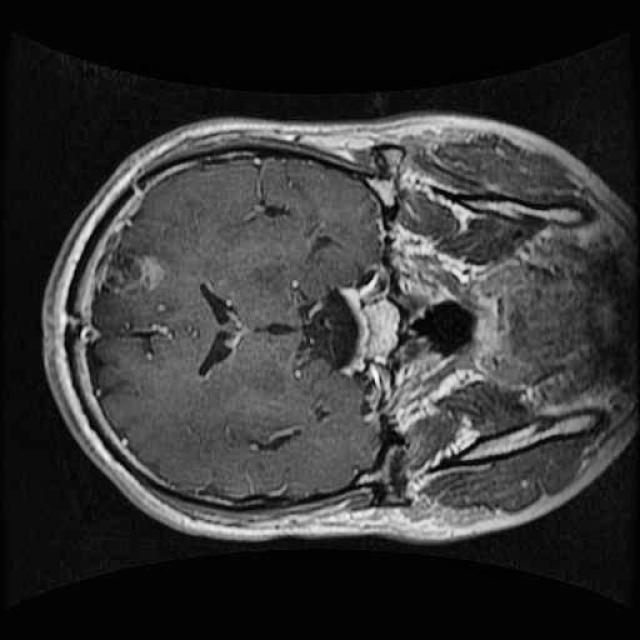Non-Tumor: (91, 238, 181, 310)
